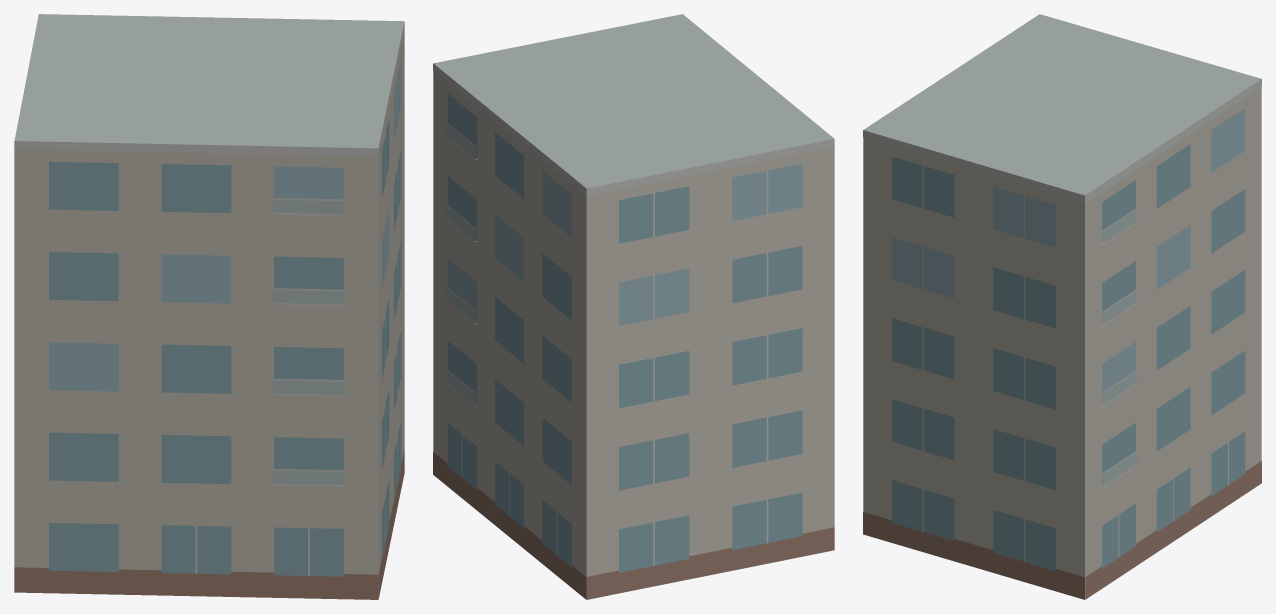
File: survey-upis-32998494.glb
3 views of the same model, side by side, from view 1: azimuth 30°, elevation 25°; view 2: azimuth 150°, elevation 25°; view 3: azimuth 270°, elevation 25° (orthographic). The views are drawn at different scales.
Parts seen in each view (by area): view 1: survey-upis-32998494.tmp; view 2: survey-upis-32998494.tmp; view 3: survey-upis-32998494.tmp.
Boxes of the visible parts, x1,y1,x2,y2 form: survey-upis-32998494.tmp: (14,14,404,599); survey-upis-32998494.tmp: (433,14,834,599); survey-upis-32998494.tmp: (863,14,1261,599).
Size of the model in its own units: 12.91 by 13.4 by 11.98.
